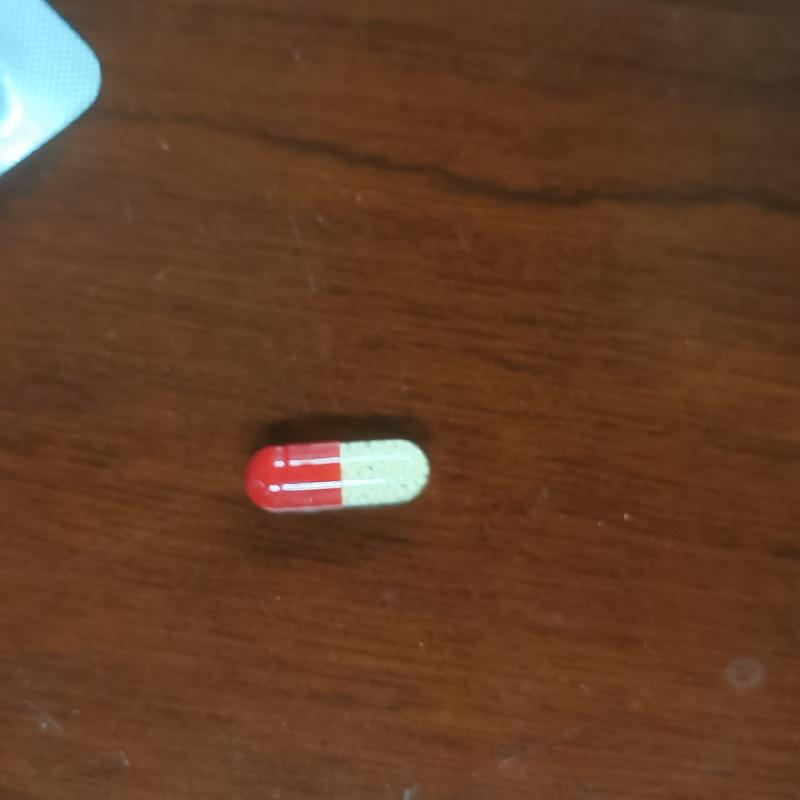pills: (234, 419, 427, 526)
